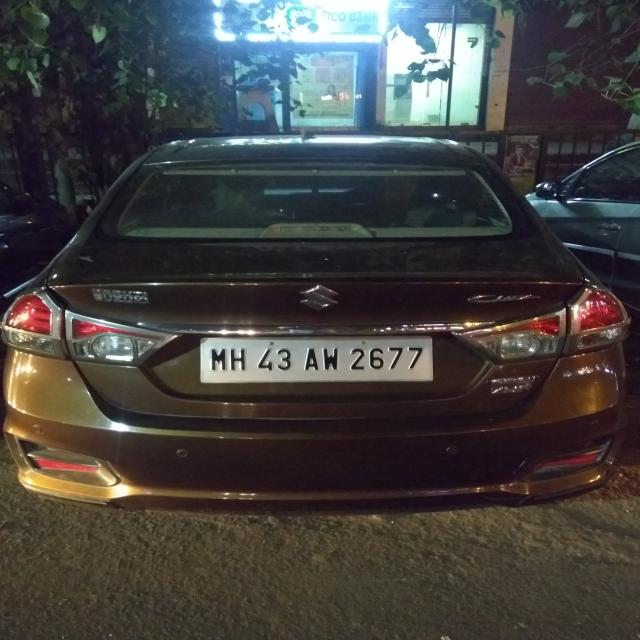Number-Plate: (204, 336, 431, 382)
